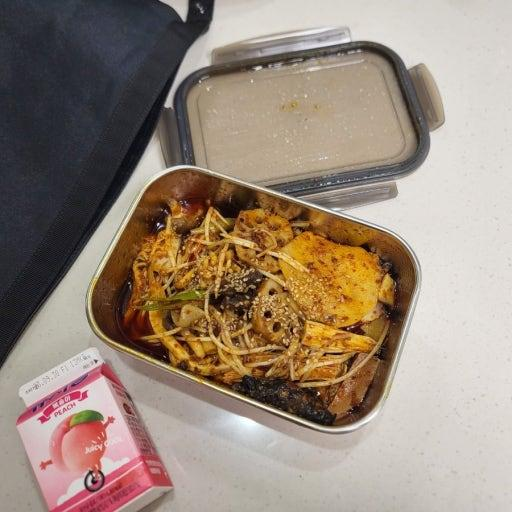Lunch Box: (86, 27, 443, 433)
